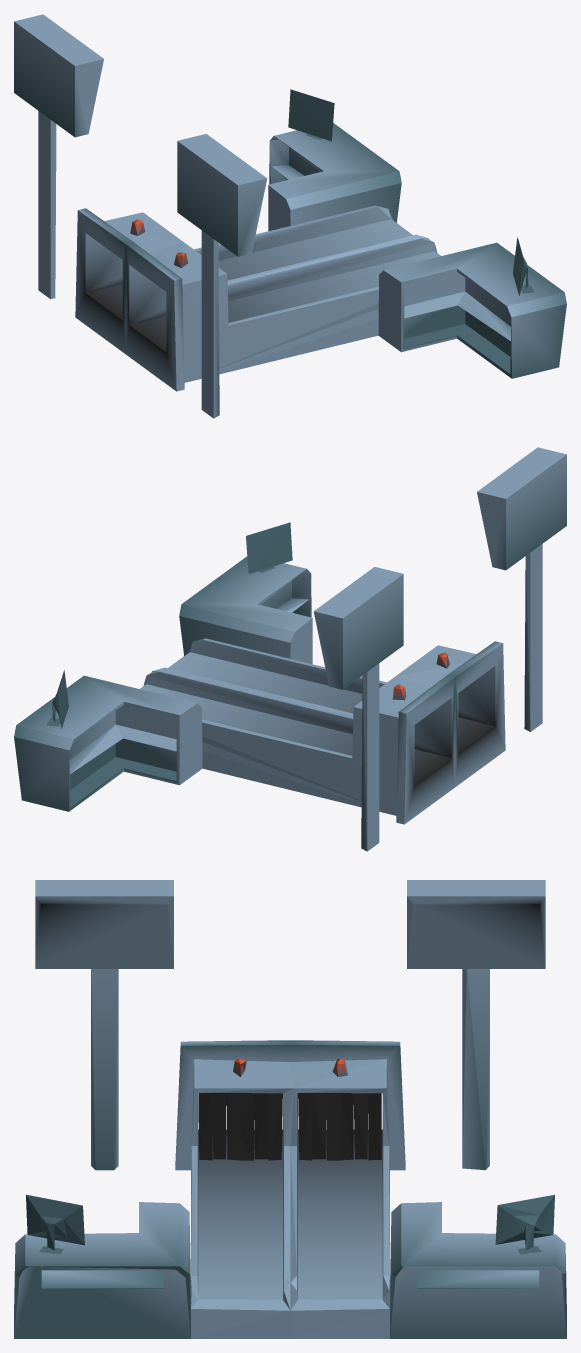
Rendered from comptoir-CAZEFG-D.glb.
3 renders of one model, top to bottom at view 1: azimuth 30°, elevation 25°; view 2: azimuth 150°, elevation 25°; view 3: azimuth 270°, elevation 25°, orthographic. The views are drawn at different scales.
Visible parts, largest first — view 1: 08.CheckInDesk_Cube.084; view 2: 08.CheckInDesk_Cube.084; view 3: 08.CheckInDesk_Cube.084.
Boxes of the visible parts, bbox=[...] form: 08.CheckInDesk_Cube.084: bbox=[14, 14, 566, 418]; 08.CheckInDesk_Cube.084: bbox=[14, 447, 566, 851]; 08.CheckInDesk_Cube.084: bbox=[14, 880, 566, 1338].
Bounding box in the file's own units: 4.77 × 3.55 × 6.23.
